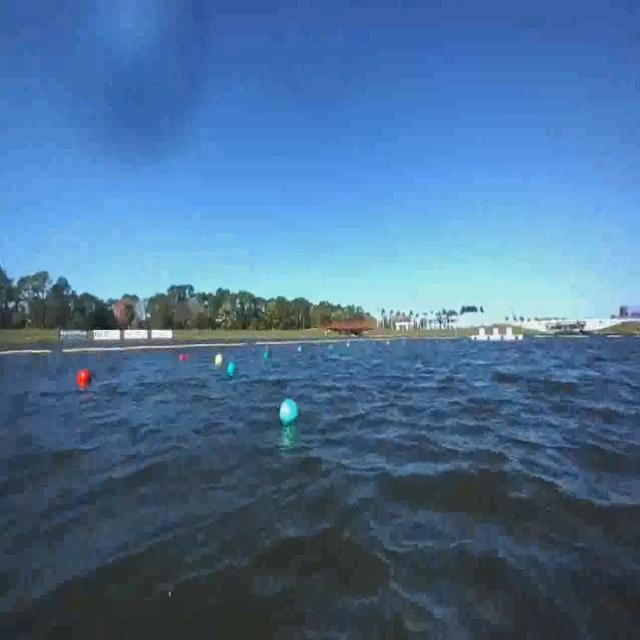green-buoy: (279, 401, 298, 428), (229, 360, 239, 375)
red-buoy: (77, 368, 92, 384), (182, 353, 190, 362)
yellow-buoy: (215, 352, 223, 367)
